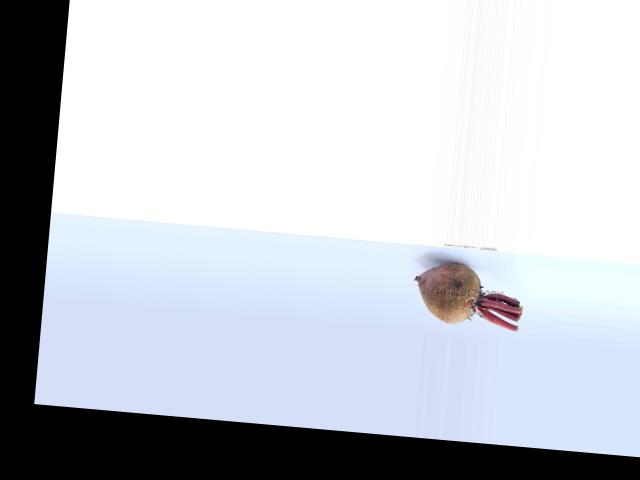beet: (412, 260, 524, 330)
